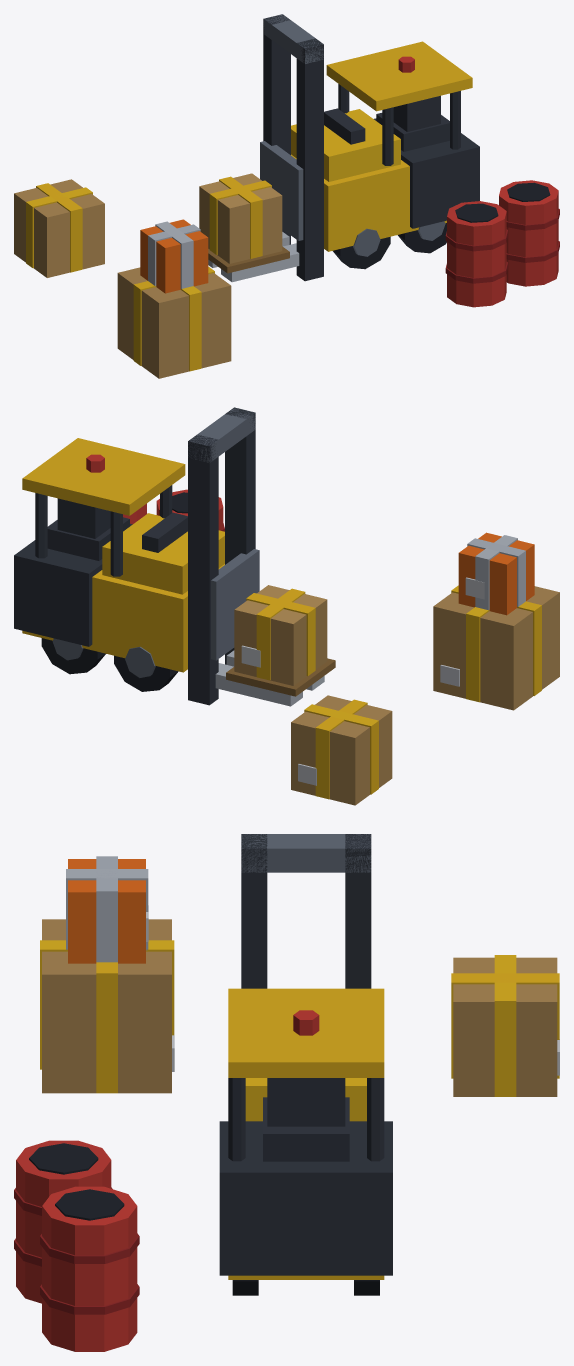
The model's file is Decor_RobotFactory_Forklift.fbx.
The picture shows the model from 3 angles, top to bottom: view 1: azimuth 30°, elevation 25°; view 2: azimuth 150°, elevation 25°; view 3: azimuth 270°, elevation 25°; orthographic projection. The views are drawn at different scales.
Visible parts, largest first — view 1: Forklift_Body; view 2: Forklift_Body; view 3: Forklift_Body.
Part boxes in pixels (x1,y1,x2,y2): Forklift_Body: (14, 14, 559, 378); Forklift_Body: (14, 407, 559, 805); Forklift_Body: (14, 834, 559, 1351).
Size of the model in its own units: 17.1 by 9.2 by 12.5.
